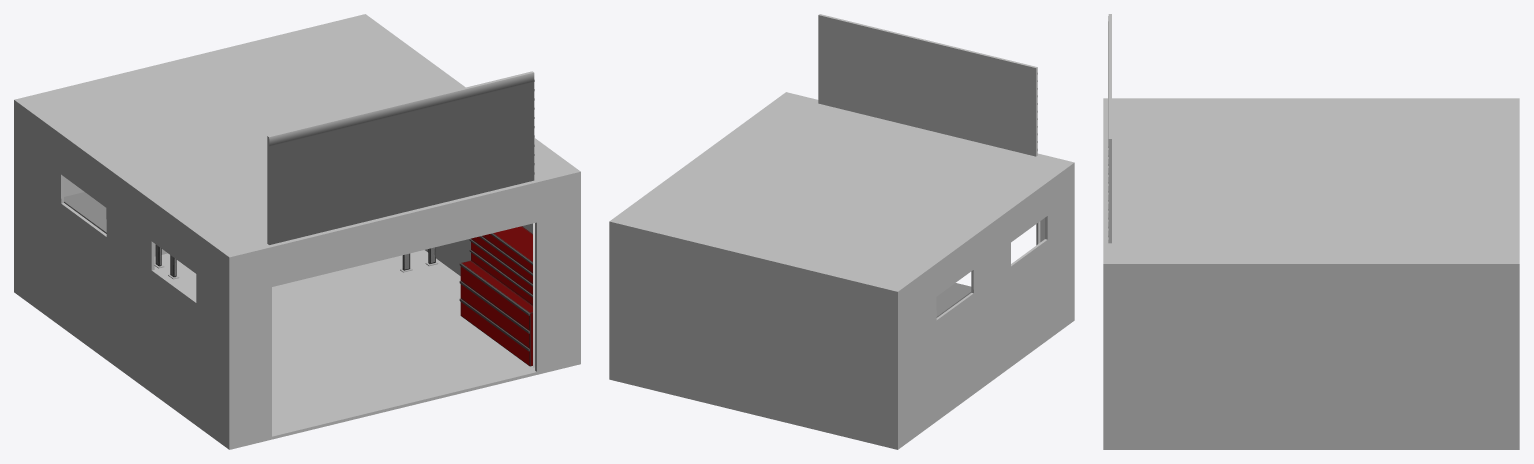
The model's file is Garage.fbx.
3 renders of one model, left to right at view 1: azimuth 30°, elevation 25°; view 2: azimuth 150°, elevation 25°; view 3: azimuth 270°, elevation 25°, orthographic. The views are drawn at different scales.
Parts seen in each view (by area): view 1: Box012, Box006, Box013, Box003; view 2: Box012, Box006, Box003; view 3: Box012, Box006.
Part boxes in pixels (<box>): Box012: <box>14,14,580,449</box>; Box006: <box>267,71,534,244</box>; Box013: <box>459,226,532,366</box>; Box003: <box>64,192,106,233</box>; Box012: <box>609,92,1074,449</box>; Box006: <box>818,14,1037,156</box>; Box003: <box>936,283,971,317</box>; Box012: <box>1103,98,1519,449</box>; Box006: <box>1108,14,1111,243</box>.
Size of the model in its own units: 245 by 200 by 260.
